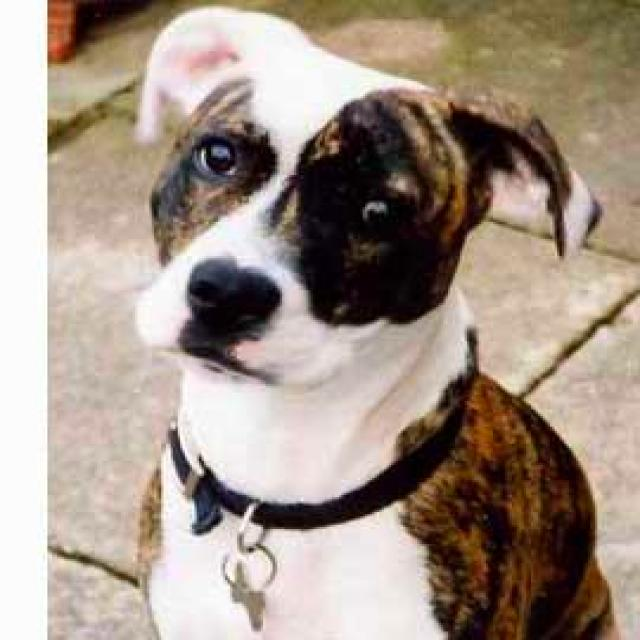staffordshire_bullterrier: (123, 6, 628, 638)
